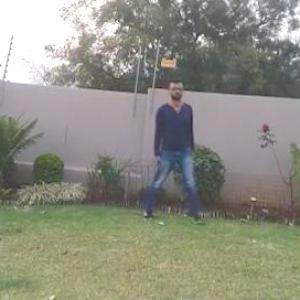follow: (141, 76, 192, 233)
